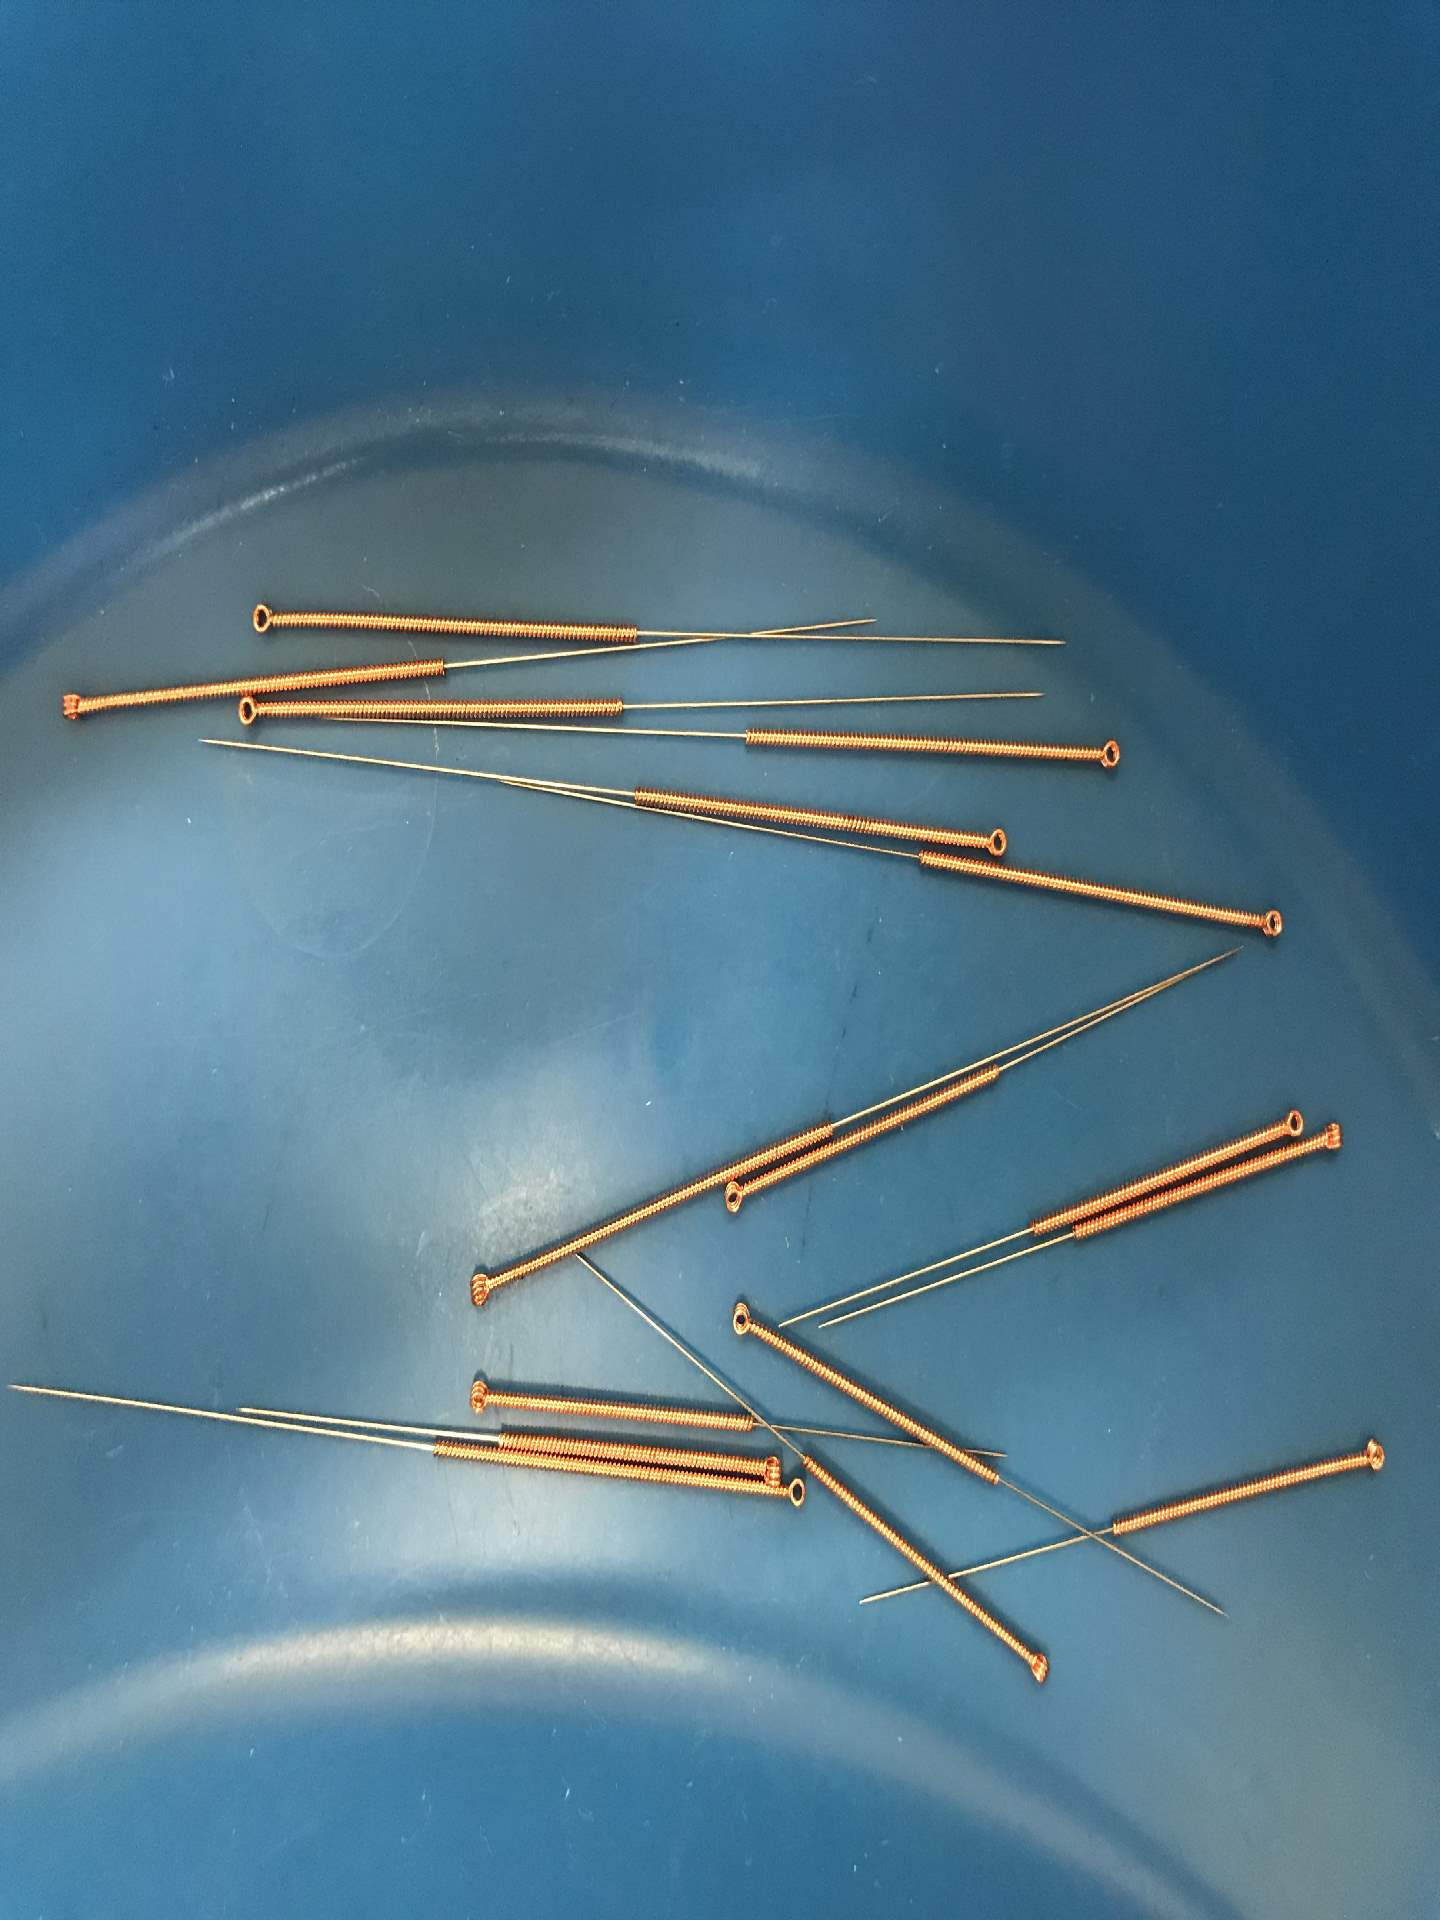needle: (1339, 1429, 1398, 1488), (1077, 726, 1133, 783), (45, 679, 103, 733), (452, 1261, 507, 1318), (720, 1291, 771, 1352), (1009, 1634, 1060, 1693), (1242, 897, 1298, 949), (452, 1373, 510, 1420), (237, 596, 293, 643), (718, 1173, 767, 1226), (968, 815, 1016, 865), (222, 691, 275, 736), (1266, 1095, 1308, 1144), (1311, 1113, 1354, 1163), (749, 1448, 790, 1492), (779, 1466, 812, 1518)
